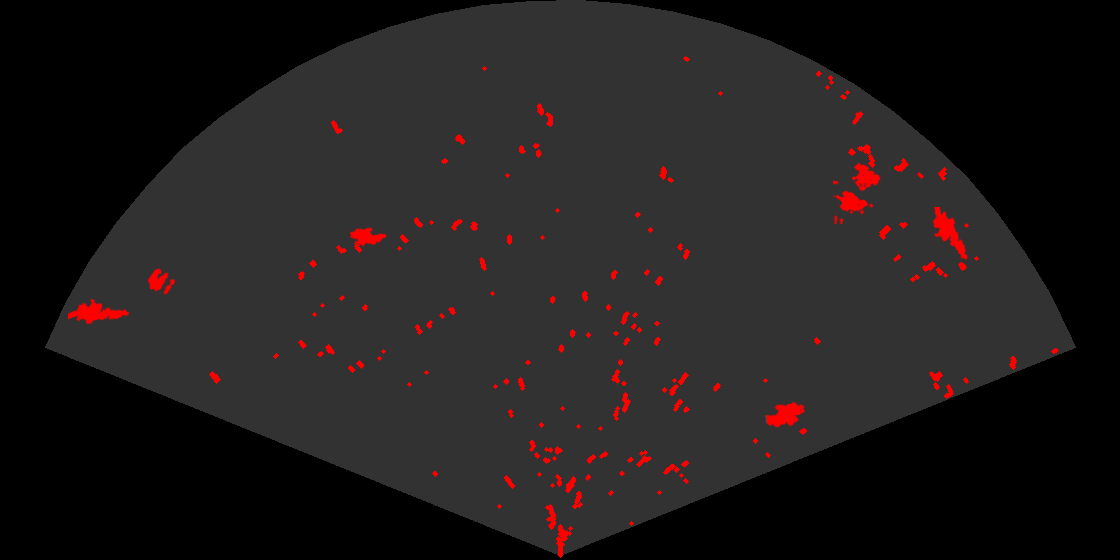AUV: (764, 400, 807, 429), (348, 226, 389, 248)
ball: (146, 267, 177, 296)
cage: (833, 161, 882, 224)
frogman: (931, 207, 969, 262), (68, 297, 131, 326)
